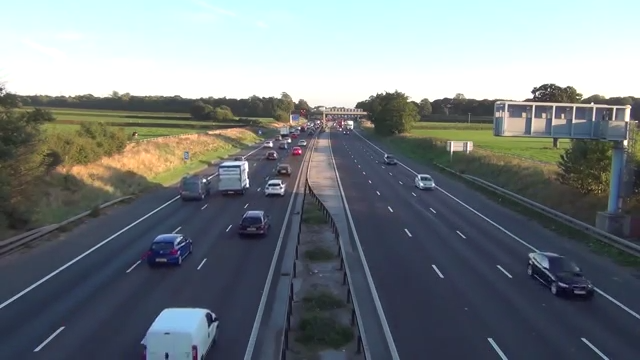car: (521, 246, 596, 302), (142, 226, 196, 268), (233, 208, 274, 238), (178, 172, 211, 201), (407, 167, 437, 194), (262, 177, 288, 196), (272, 160, 294, 177), (380, 149, 398, 167), (264, 146, 279, 164), (288, 143, 303, 157), (339, 125, 351, 137)
van: (138, 303, 223, 360), (214, 158, 251, 194)
